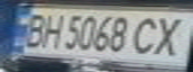0: (78, 12, 96, 52)
5: (63, 11, 84, 51)
6: (93, 12, 115, 53)
8: (109, 14, 136, 54)
B: (18, 10, 51, 48)
C: (127, 14, 166, 56)
H: (36, 10, 66, 49)
X: (148, 12, 193, 57)
